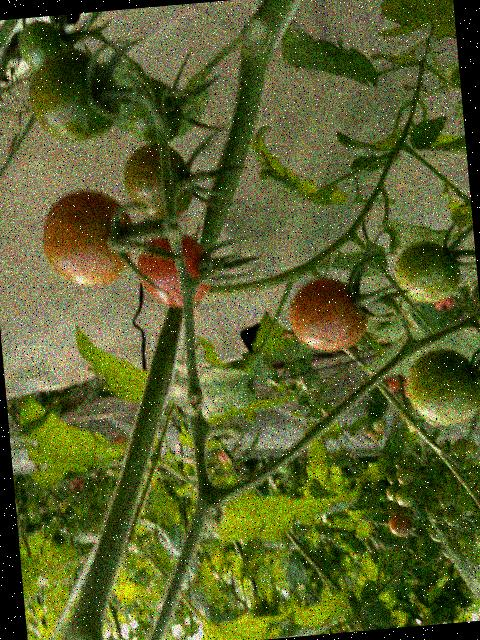l_fully_ripened: (134, 228, 215, 312)
l_green: (26, 43, 122, 146), (403, 345, 480, 429), (392, 238, 464, 306), (121, 80, 184, 148), (16, 18, 72, 73)
l_half_ripened: (39, 186, 138, 291), (285, 273, 371, 356), (120, 140, 195, 225)
